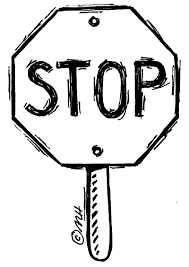SS: (9, 7, 181, 171)
